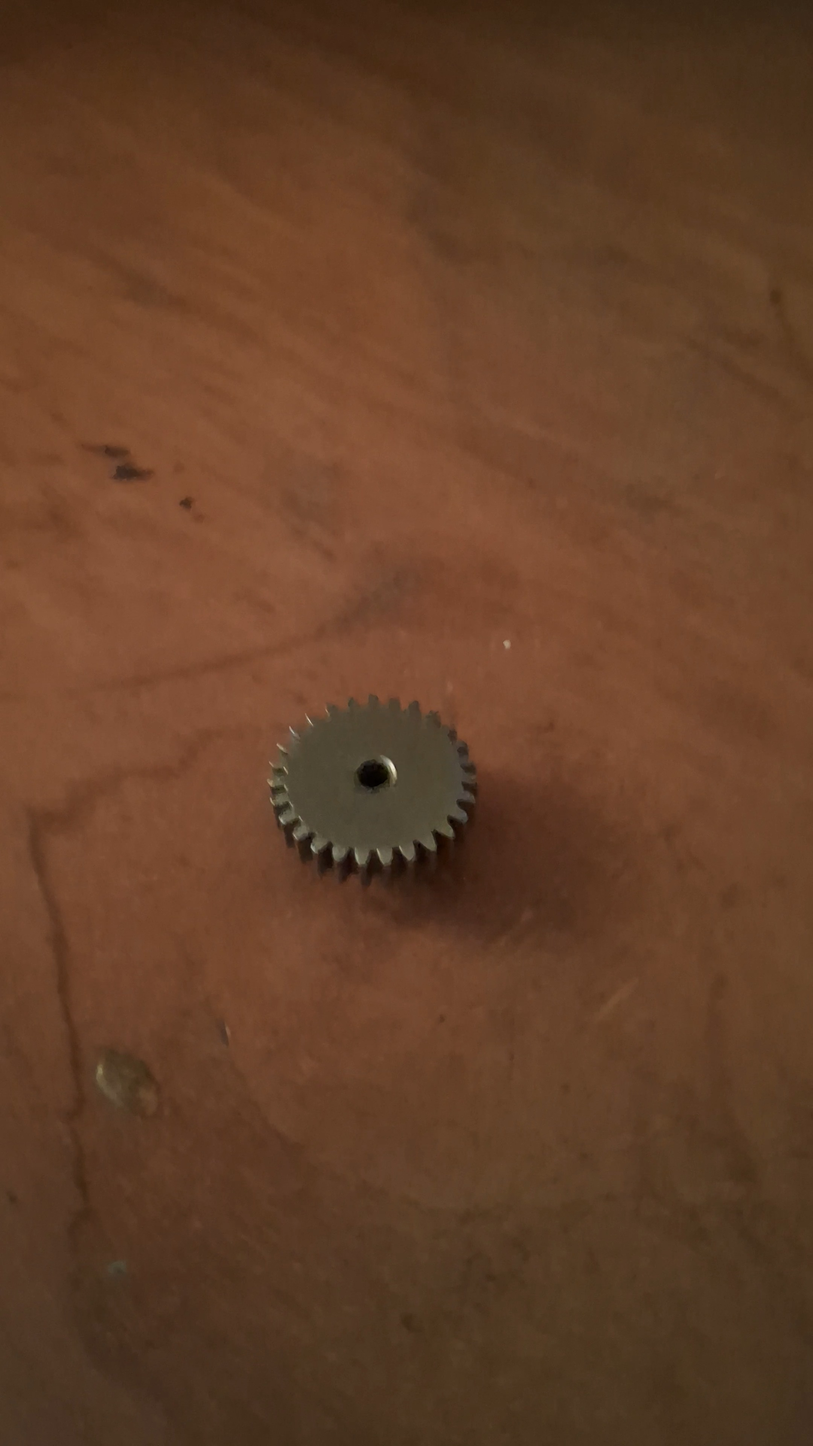spur gear: (269, 696, 476, 880)
